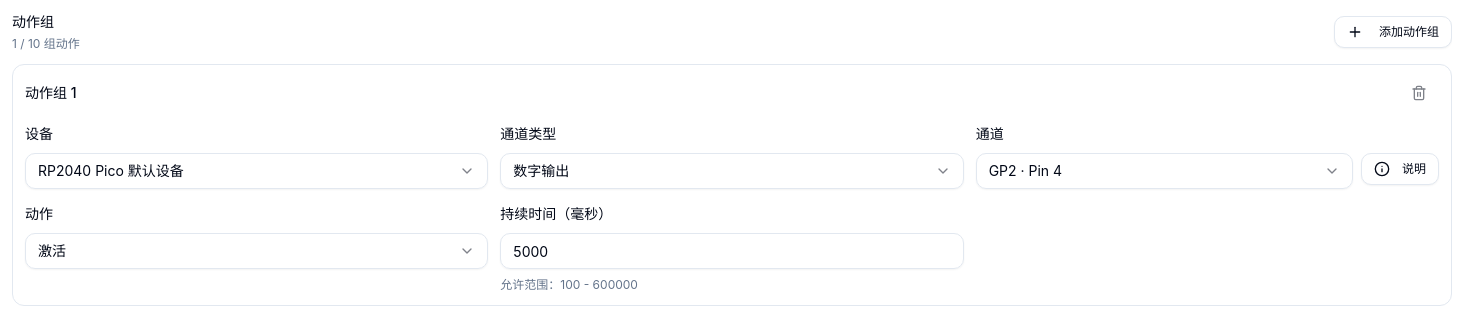
it: DeviceChannelOutputFields › hides pwm and ws2812 channel types from default board capabilities
Click the dropdown named "通道类型": {"x": 541, "y": 170} [500,153,964,189]
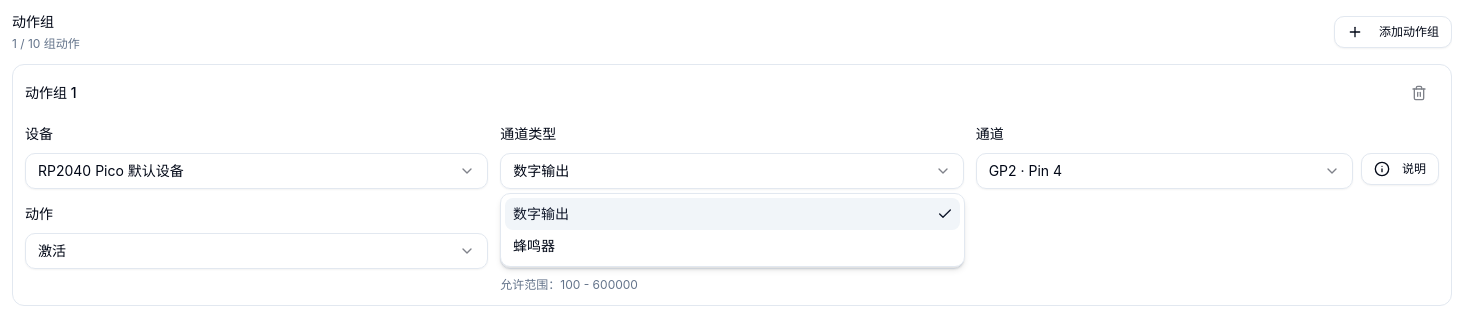
Expected: the option "数字输出" is shown, [505,198,960,230]
Expected: the option "蜂鸣器" is shown, [513,237,555,254]
